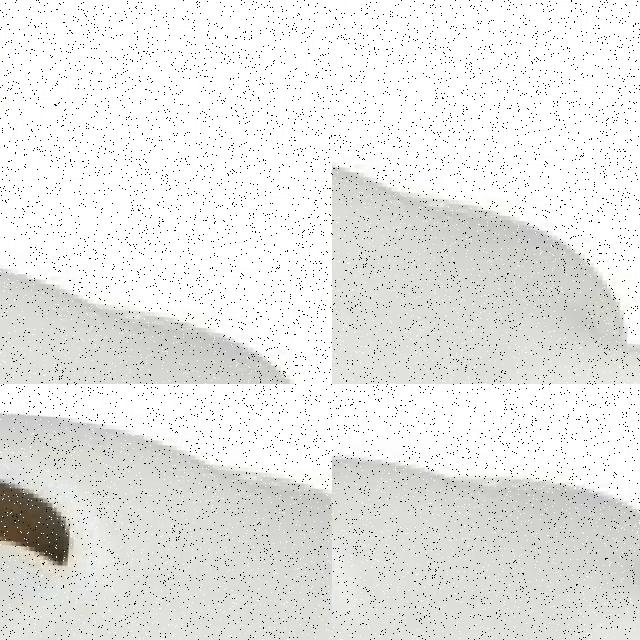drone: (332, 384, 640, 640)
